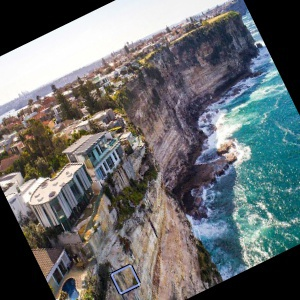square: (108, 263, 142, 295)
